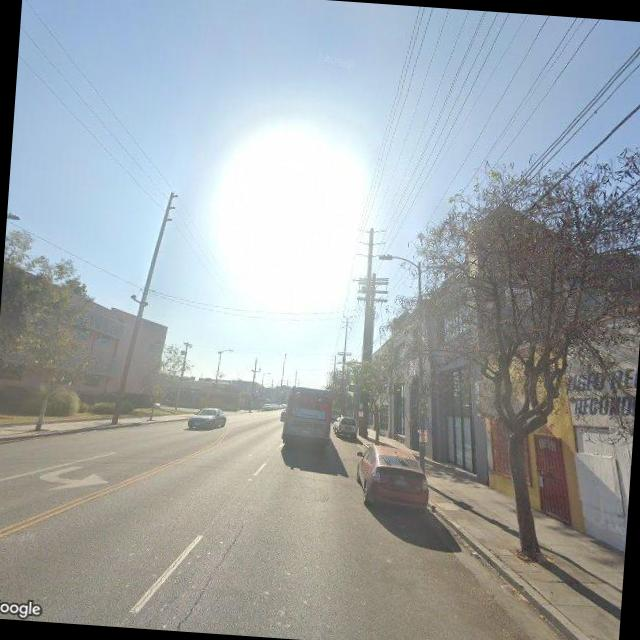pothole: (165, 514, 249, 633)
